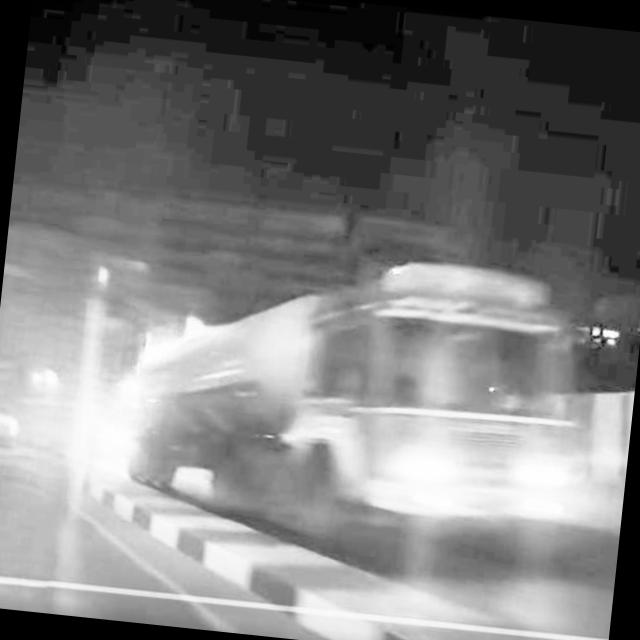Truck: (117, 227, 640, 575)
